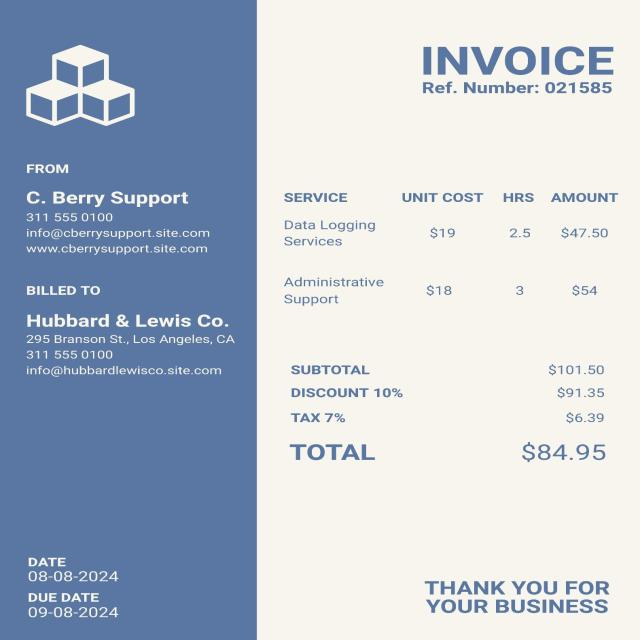paragraph: (269, 350, 619, 429), (16, 278, 242, 389), (11, 157, 230, 264), (13, 22, 161, 136), (415, 567, 616, 622), (409, 35, 622, 77), (276, 440, 618, 466), (414, 80, 622, 100), (19, 591, 130, 624), (16, 554, 132, 584)
table: (270, 184, 626, 310)
